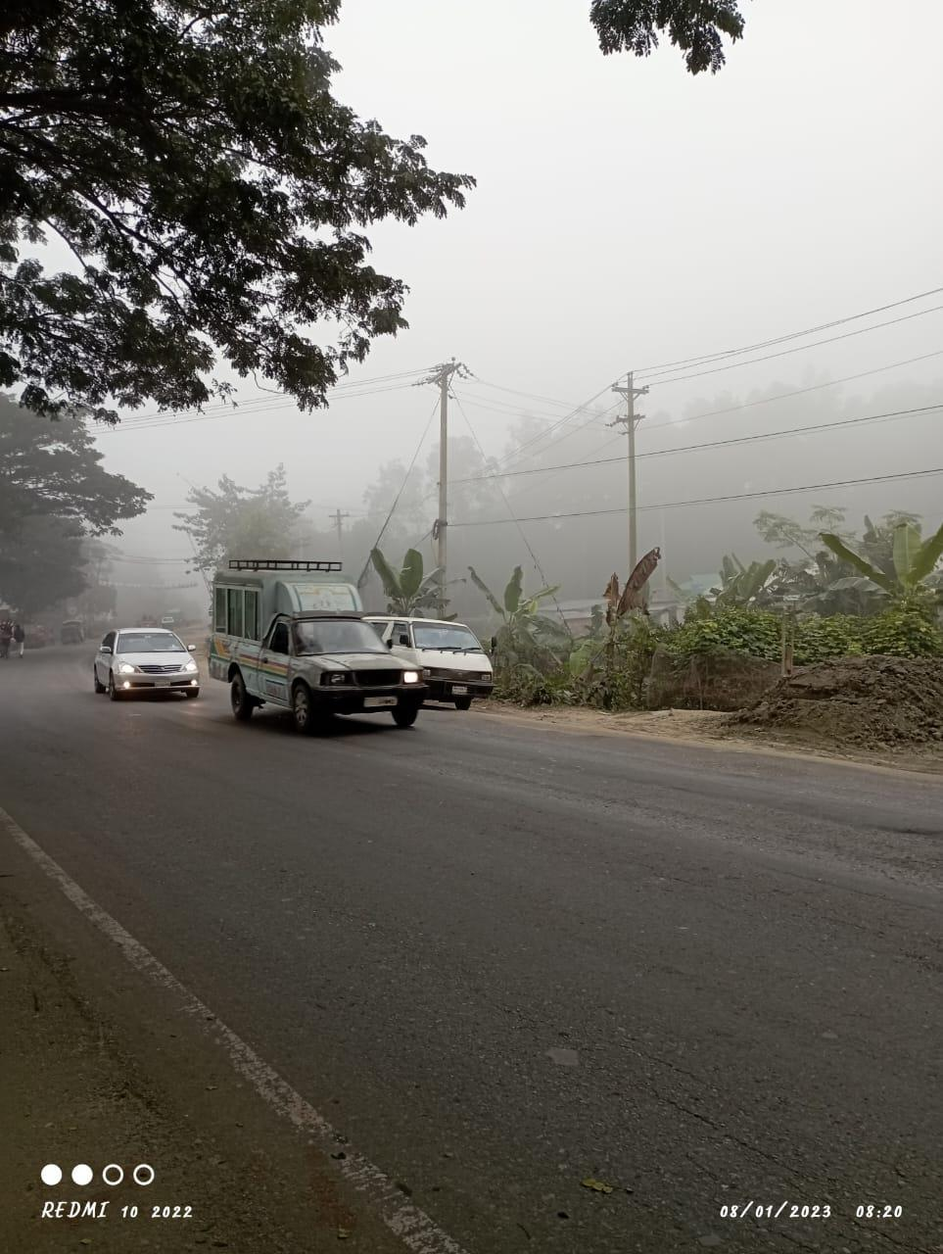Car: (205, 552, 427, 744), (374, 603, 506, 698), (90, 623, 201, 708)
